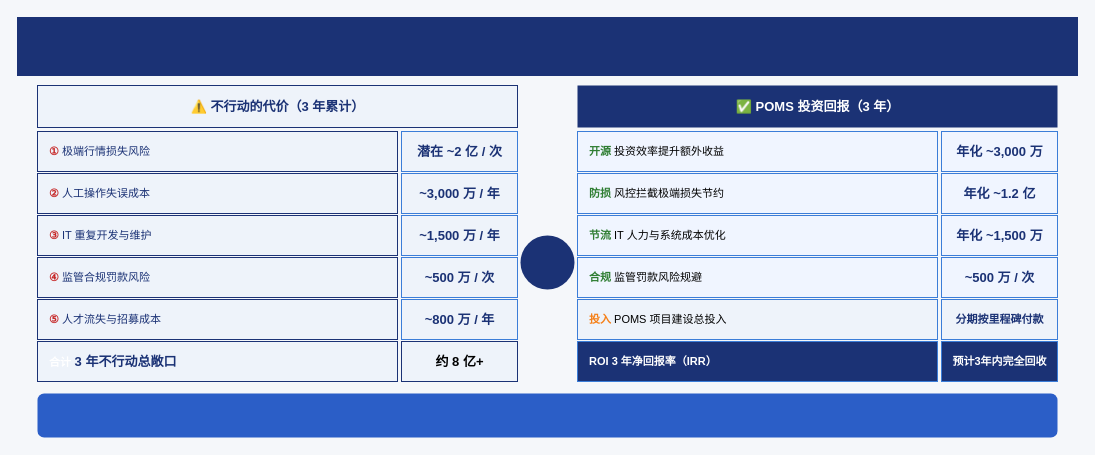
The diagram is 1095 pixels wide and 455 high, and some of its shapes have lost their labels. The shapes that lost their labels are listed below. From the top down, each one's centre as x and y in pixels, then its label:
(x=547, y=46): 投资决策框架：行动收益 vs 不行动代价 3 年维度 · 量化对比 · 现在就是最好的决策时机
(x=547, y=262): VS
(x=547, y=415): 📢 现在是最佳决策时机 — 每延迟 1 年，潜在损失敞口超 2.5 亿
